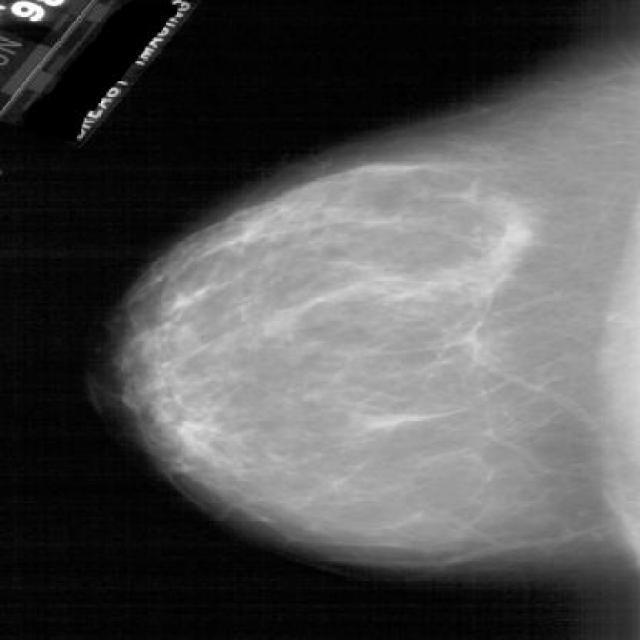tumor: (148, 242, 527, 506)
